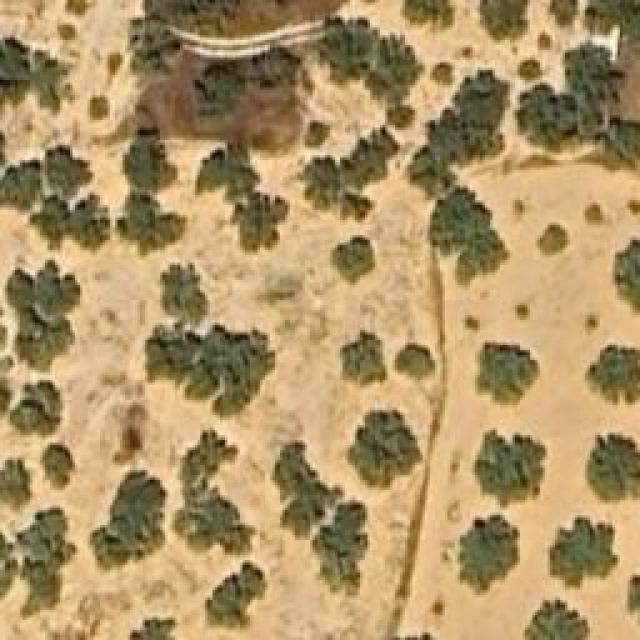Tree: (405, 68, 510, 193), (145, 323, 275, 418), (8, 260, 83, 373), (88, 473, 168, 576), (193, 48, 303, 118), (270, 443, 343, 538), (0, 505, 68, 605), (470, 428, 545, 511), (348, 412, 423, 490), (548, 515, 618, 590), (458, 515, 521, 595), (430, 187, 503, 255), (125, 98, 175, 193), (313, 503, 368, 588), (183, 493, 252, 558), (563, 43, 626, 113), (475, 343, 540, 408), (208, 560, 268, 628), (520, 85, 580, 153), (318, 20, 381, 83), (585, 433, 640, 503), (332, 123, 390, 184), (585, 345, 640, 408), (153, 260, 212, 317), (368, 35, 418, 100), (10, 380, 63, 438), (130, 193, 185, 248), (68, 198, 124, 252), (522, 597, 592, 640), (195, 148, 254, 197), (340, 330, 388, 388), (585, 118, 640, 168), (0, 155, 50, 206), (625, 480, 640, 638), (305, 152, 345, 211), (240, 198, 287, 248), (612, 238, 640, 318), (33, 195, 75, 247), (40, 143, 82, 191), (480, 0, 527, 42), (330, 238, 373, 283), (40, 442, 78, 490), (393, 343, 436, 383), (403, 0, 456, 28), (0, 460, 30, 508), (0, 42, 22, 107), (125, 615, 180, 640), (540, 223, 570, 256), (585, 0, 618, 28), (548, 0, 578, 28), (387, 100, 415, 128), (300, 110, 328, 138), (88, 98, 111, 123), (433, 63, 453, 86), (520, 60, 540, 80), (465, 315, 485, 333), (65, 0, 88, 15), (57, 25, 75, 40)
